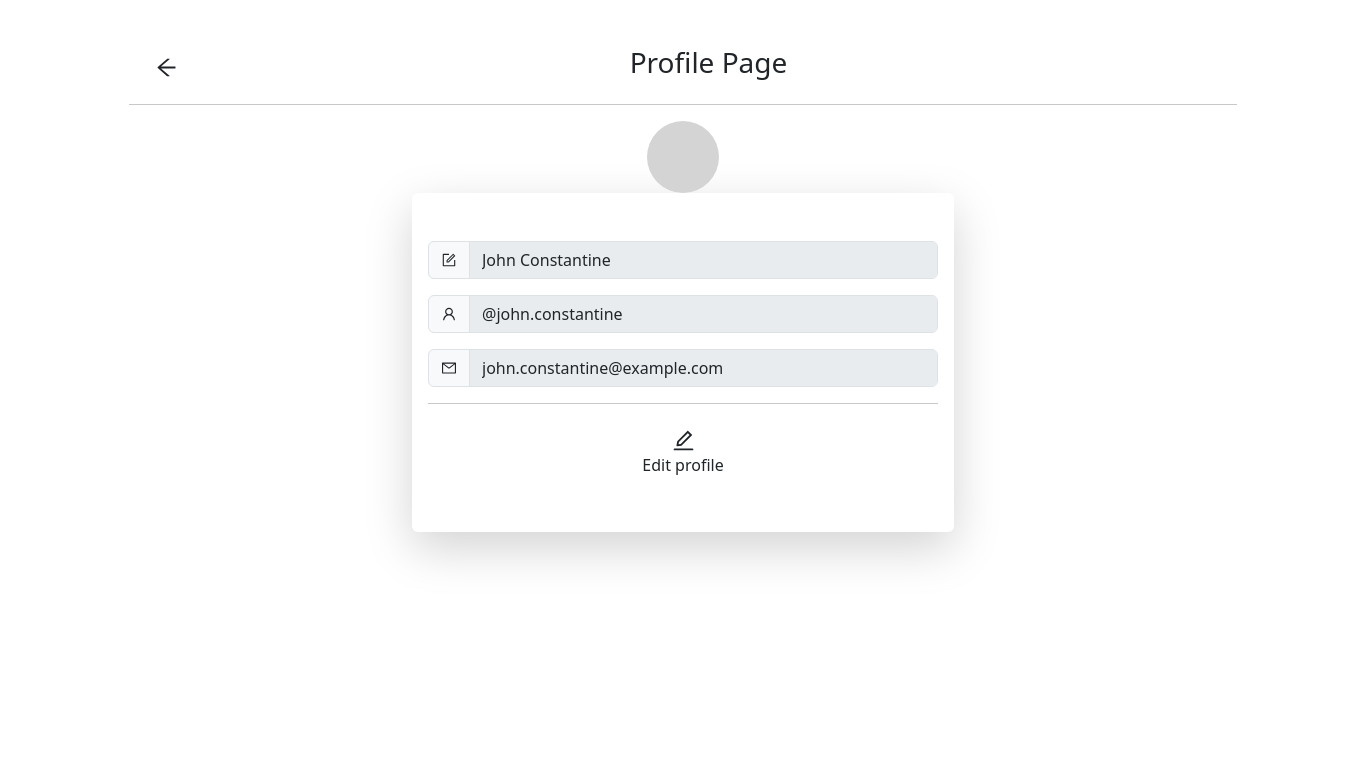
Test case: Profile Page › test if input become available when edit button is clicked
Expected: the 1st field showing "John Constantine" is disabled, [469,241,938,279]
Expected: the 3rd field showing "john.constantine@example.com" is disabled, [469,349,938,387]
Click the button with test id "edit-profile-button" at [683, 452], box [629,420,737,484]
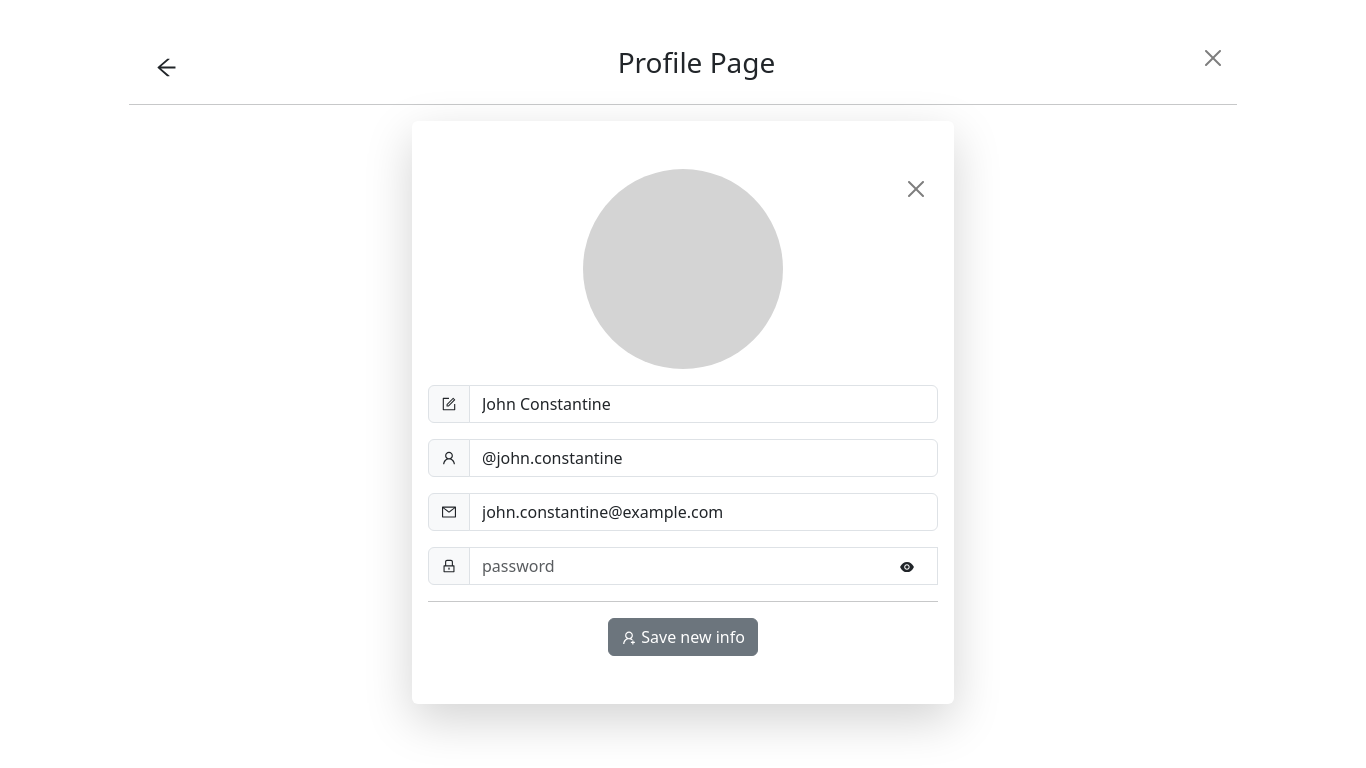
Now the 1st field showing "John Constantine" is enabled, box [469,385,938,423]
Now the 3rd field showing "john.constantine@example.com" is enabled, box [469,493,938,531]
Now the 2nd field showing "@john.constantine" is enabled, box [469,439,938,477]
